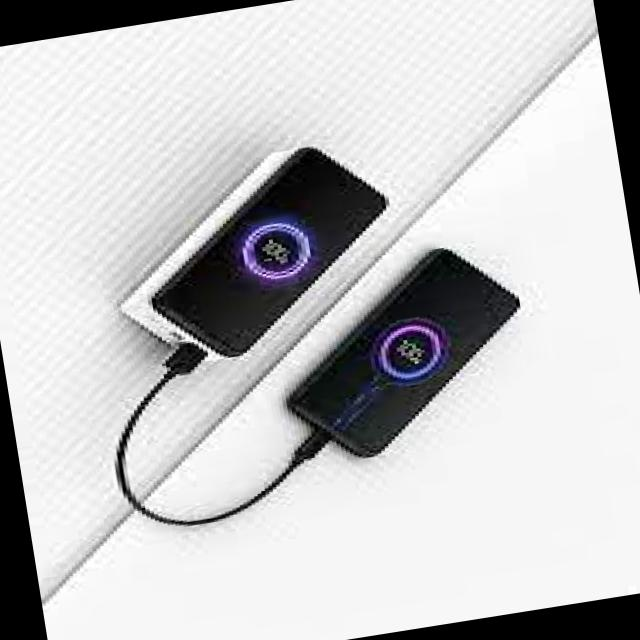power_bank: (96, 132, 414, 378)
